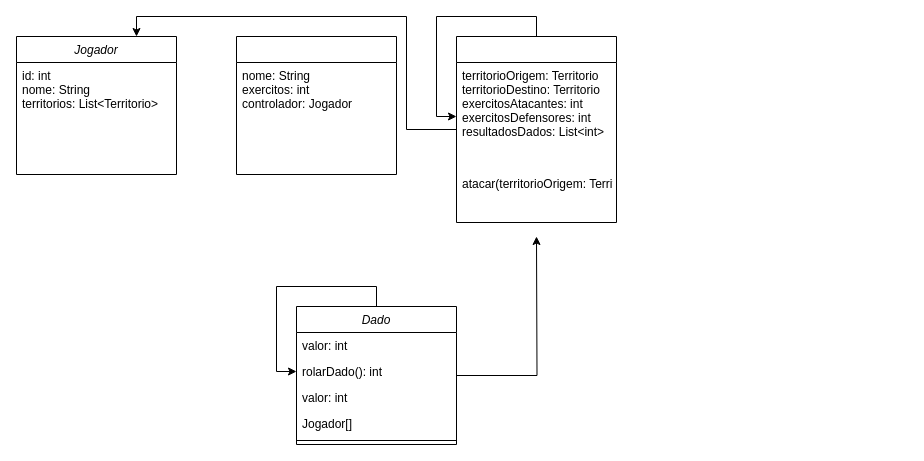
Image size: 924x461. Some labels were removed from this diagram. Each missing label, with the box of its shape:
Combate: (456, 36, 616, 222)
Territorio: (236, 36, 396, 174)
